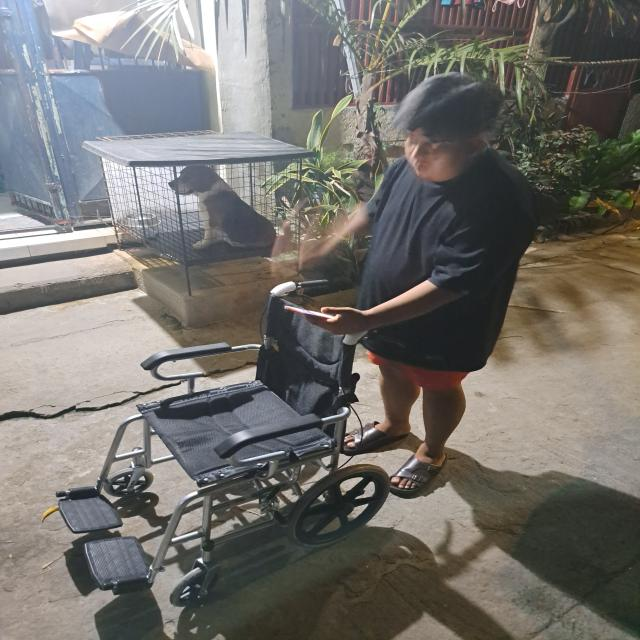wheelchairs: (60, 275, 399, 603)
